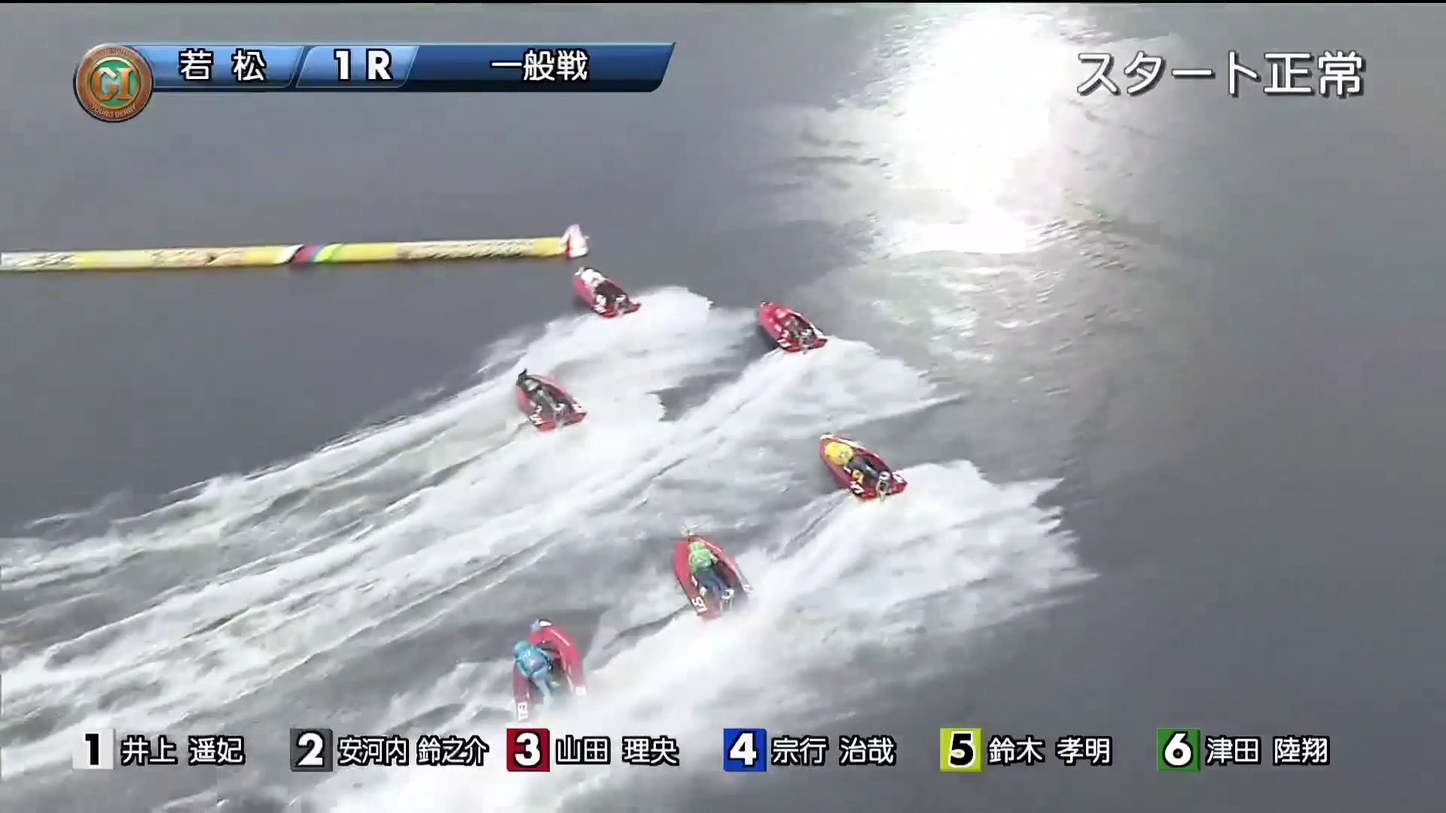１号艇: (581, 262, 652, 316)
２号艇: (508, 370, 636, 430)
３号艇: (760, 300, 858, 347)
４号艇: (675, 537, 809, 602)
５号艇: (496, 642, 620, 697)
６号艇: (834, 441, 933, 497)
